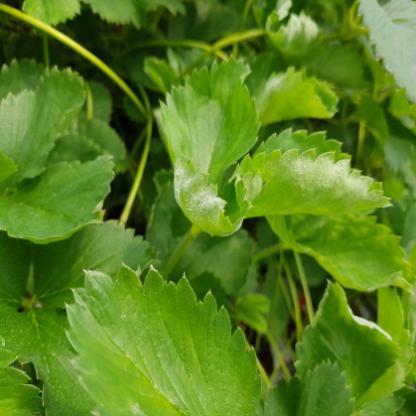Strawberry_Powdery_Mildew_Leaf: (65, 261, 262, 415), (226, 127, 394, 218), (293, 278, 403, 404), (172, 154, 264, 238), (254, 64, 338, 128), (266, 9, 324, 58)
